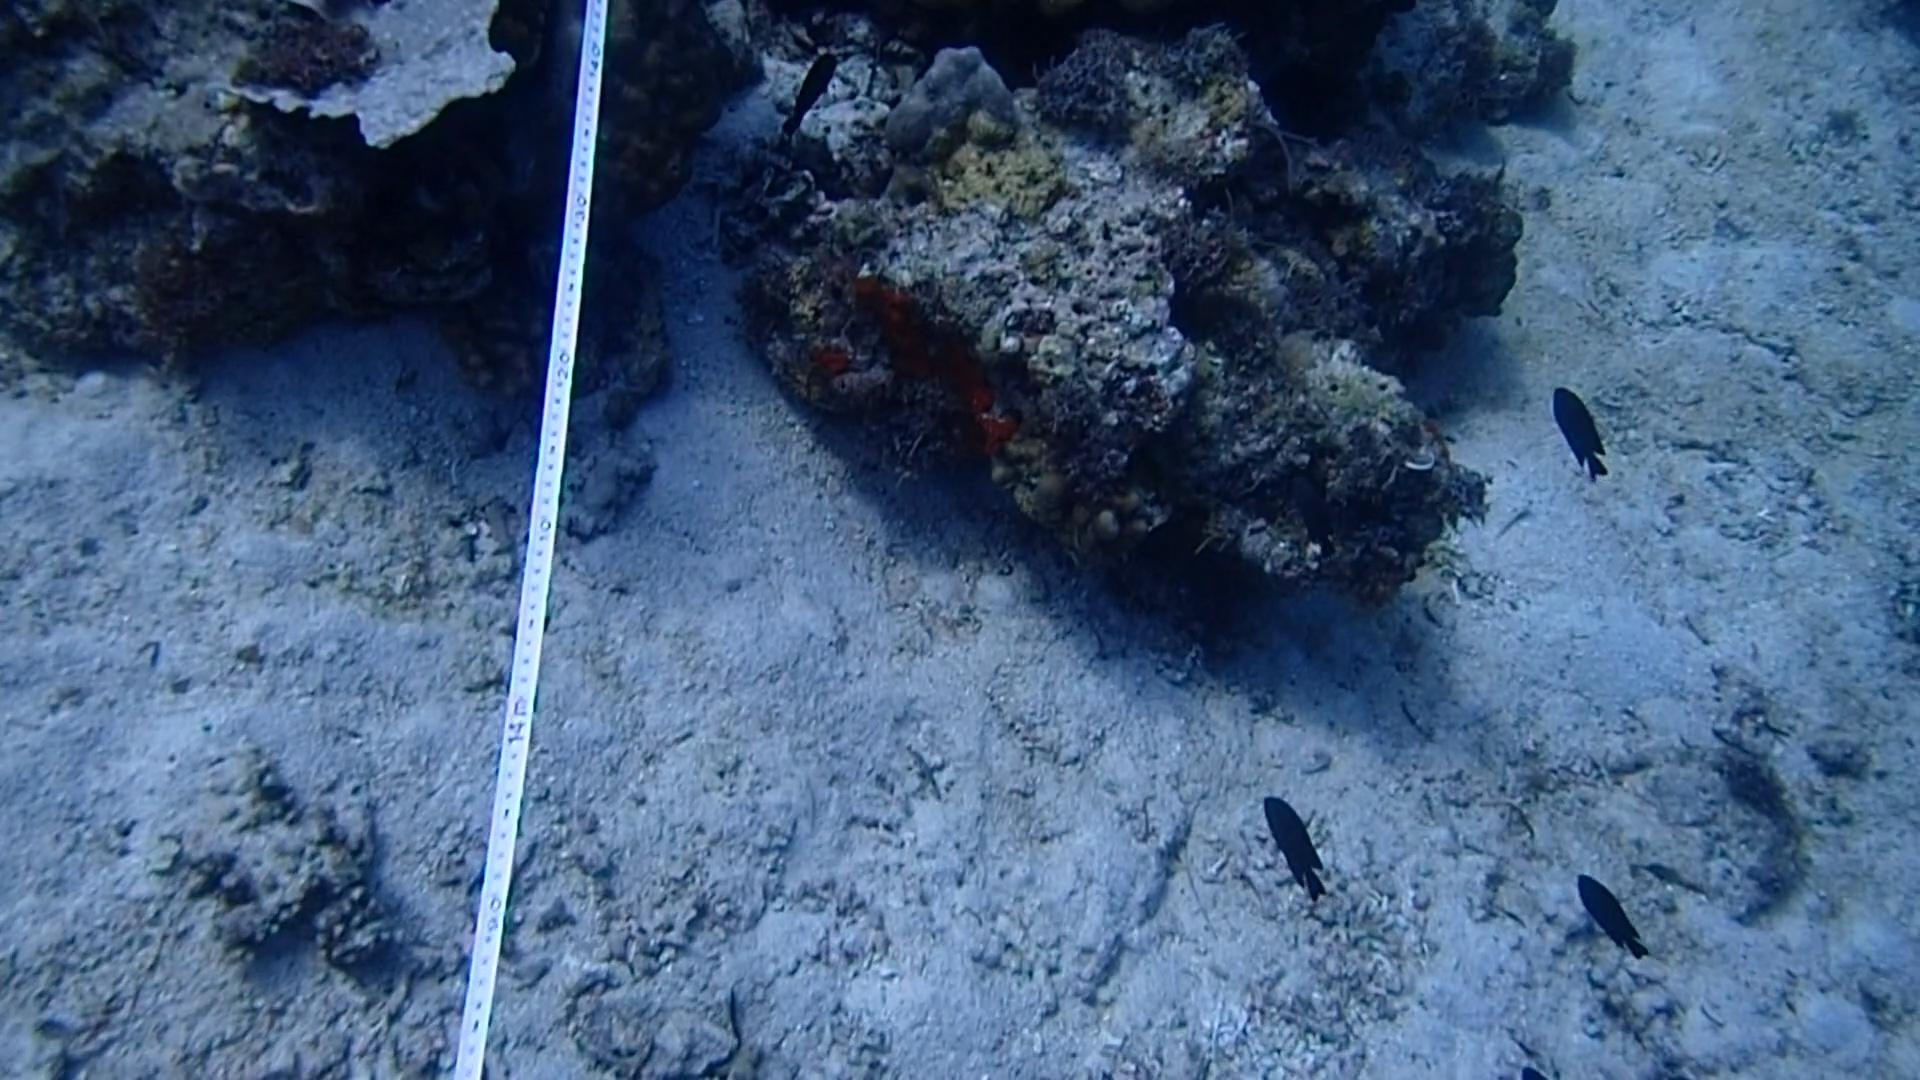Dark Fish: (1565, 853, 1654, 972), (1254, 782, 1329, 909), (1540, 371, 1611, 491), (766, 41, 844, 141)
